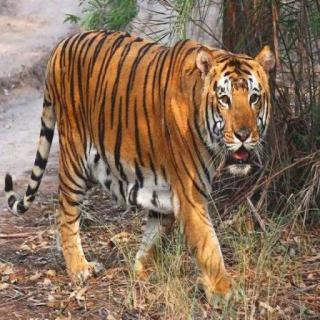Tiger: (4, 26, 290, 306)
